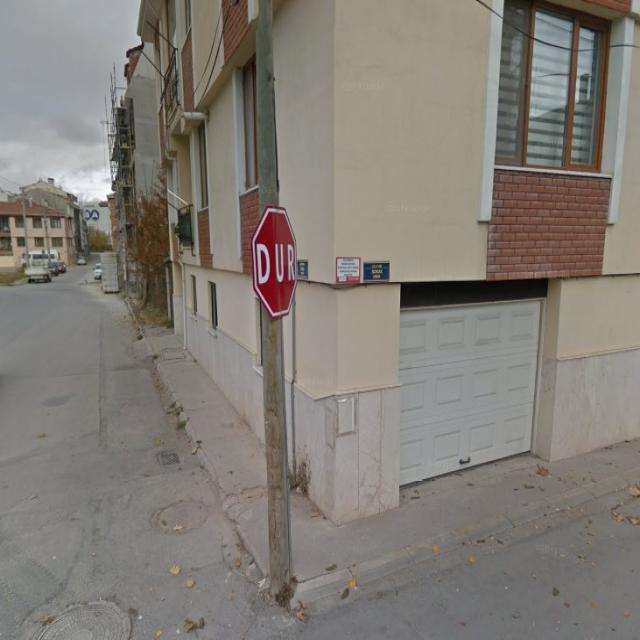dur: (252, 207, 299, 321)
